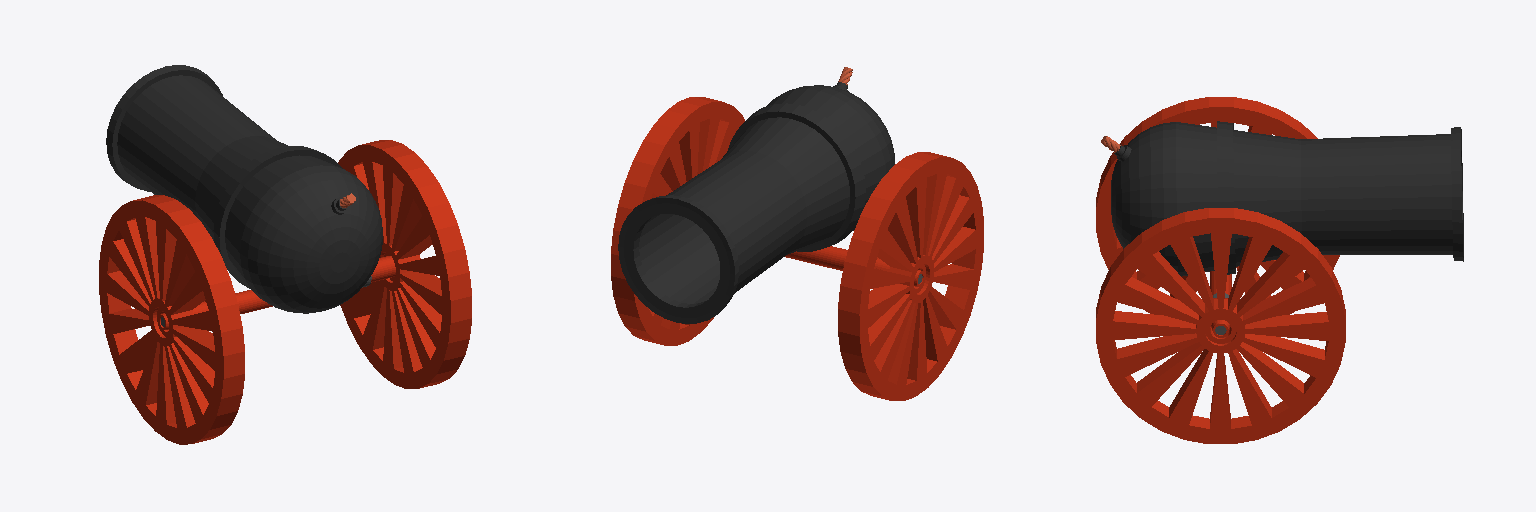
Rendered from Cannon.obj.
3 renders of one model, left to right at view 1: azimuth 30°, elevation 25°; view 2: azimuth 150°, elevation 25°; view 3: azimuth 270°, elevation 25°, orthographic.
Visible parts, largest first — view 1: Cylinder_Cylinder.001, Cylinder.001_Cylinder.005; view 2: Cylinder_Cylinder.001, Cylinder.001_Cylinder.005; view 3: Cylinder_Cylinder.001, Cylinder.001_Cylinder.005.
Part boxes in pixels (x1,y1,x2,y2): Cylinder_Cylinder.001: (99, 140, 471, 444); Cylinder.001_Cylinder.005: (106, 65, 382, 313); Cylinder_Cylinder.001: (611, 97, 983, 400); Cylinder.001_Cylinder.005: (618, 85, 894, 323); Cylinder_Cylinder.001: (1096, 97, 1345, 443); Cylinder.001_Cylinder.005: (1111, 121, 1463, 276).
Bounding box in the file's own units: 1.05 × 1.03 × 1.35.